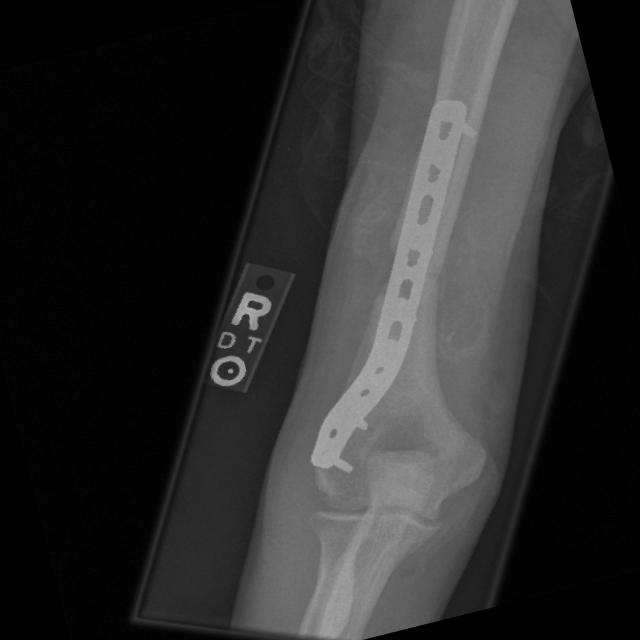elbow positive: (418, 252, 453, 299)
